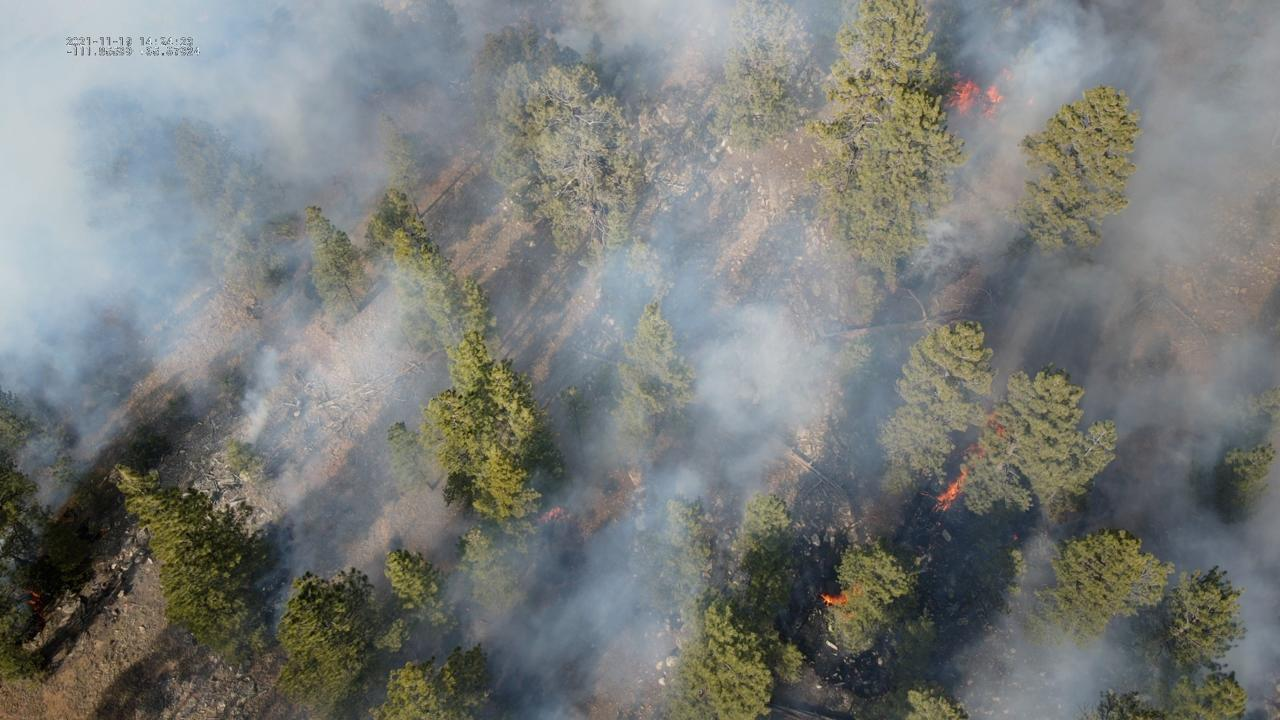fire: (944, 71, 1005, 122), (929, 467, 970, 516), (536, 506, 561, 527), (818, 593, 849, 608), (32, 604, 49, 623), (987, 418, 1006, 434), (968, 442, 987, 457), (24, 589, 44, 603), (1012, 534, 1018, 542)
smoke: (0, 0, 1280, 720)
